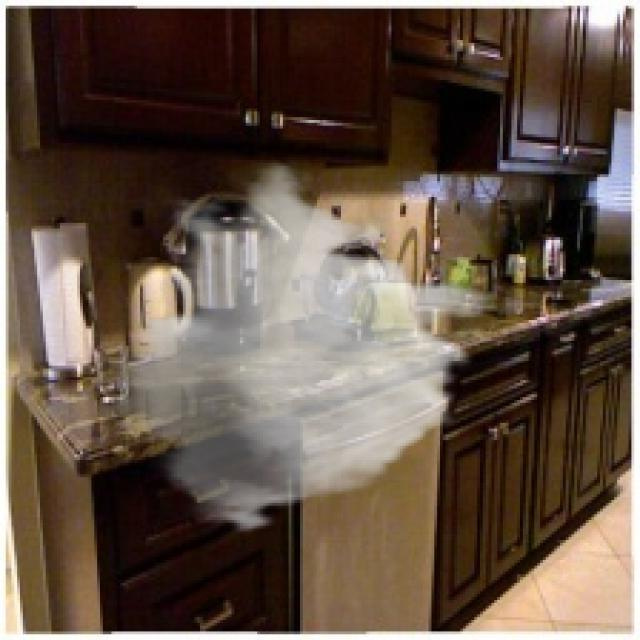Smoke: (97, 160, 500, 534)
